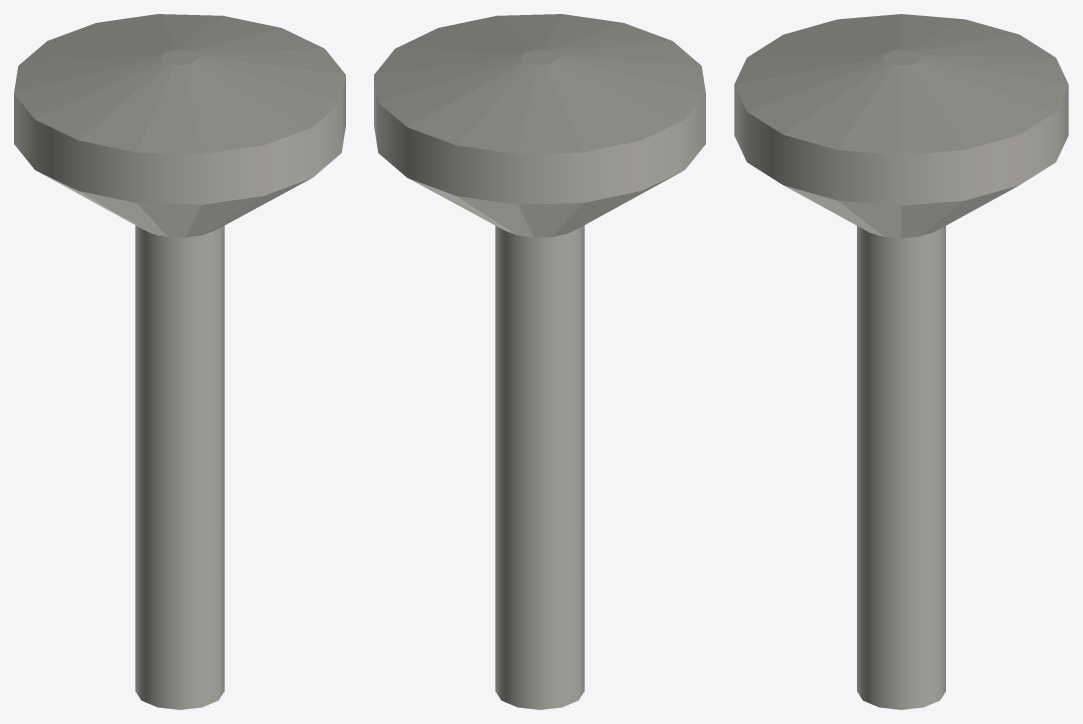
Rendered from chateau_eau_champignon.glb.
3 views of the same model, side by side, from view 1: azimuth 30°, elevation 25°; view 2: azimuth 150°, elevation 25°; view 3: azimuth 270°, elevation 25° (orthographic).
Visible parts, largest first — view 1: chateau_eau_champignon; view 2: chateau_eau_champignon; view 3: chateau_eau_champignon.
Part boxes in pixels (x1=…): chateau_eau_champignon: x1=14, y1=14, x2=345, y2=709; chateau_eau_champignon: x1=374, y1=14, x2=705, y2=709; chateau_eau_champignon: x1=734, y1=14, x2=1068, y2=709.
Bounding box in the file's own units: 18 × 37.6 × 18.
1 material, 1 textured.
